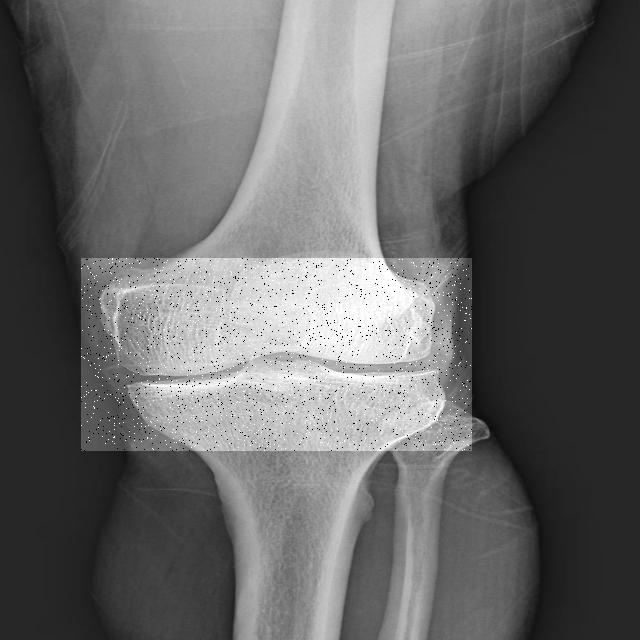osteo: (81, 258, 472, 451)
